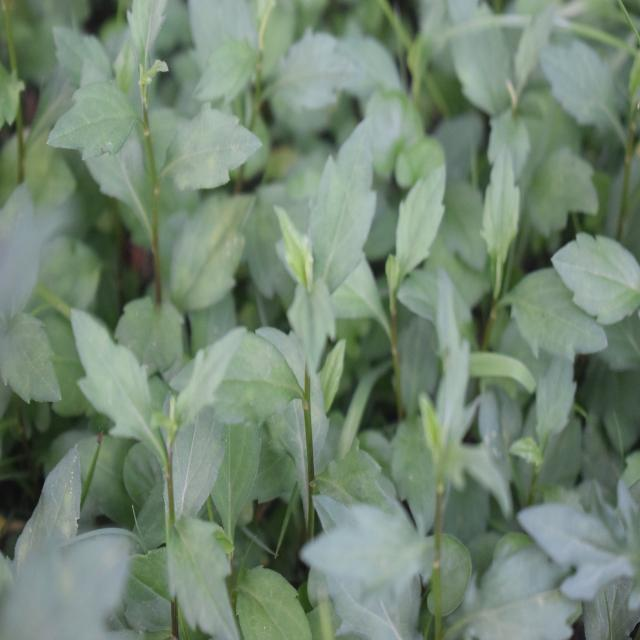Indian aster: (207, 102, 370, 546), (63, 280, 258, 624), (448, 102, 622, 464)
